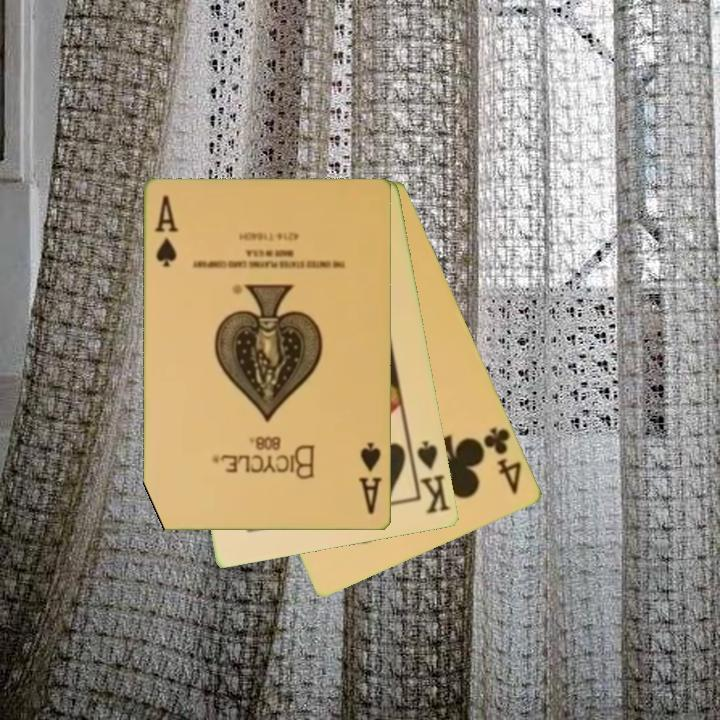4c: (480, 423, 525, 498)
As: (356, 440, 386, 518), (152, 192, 181, 271)
Ks: (406, 437, 453, 517)
